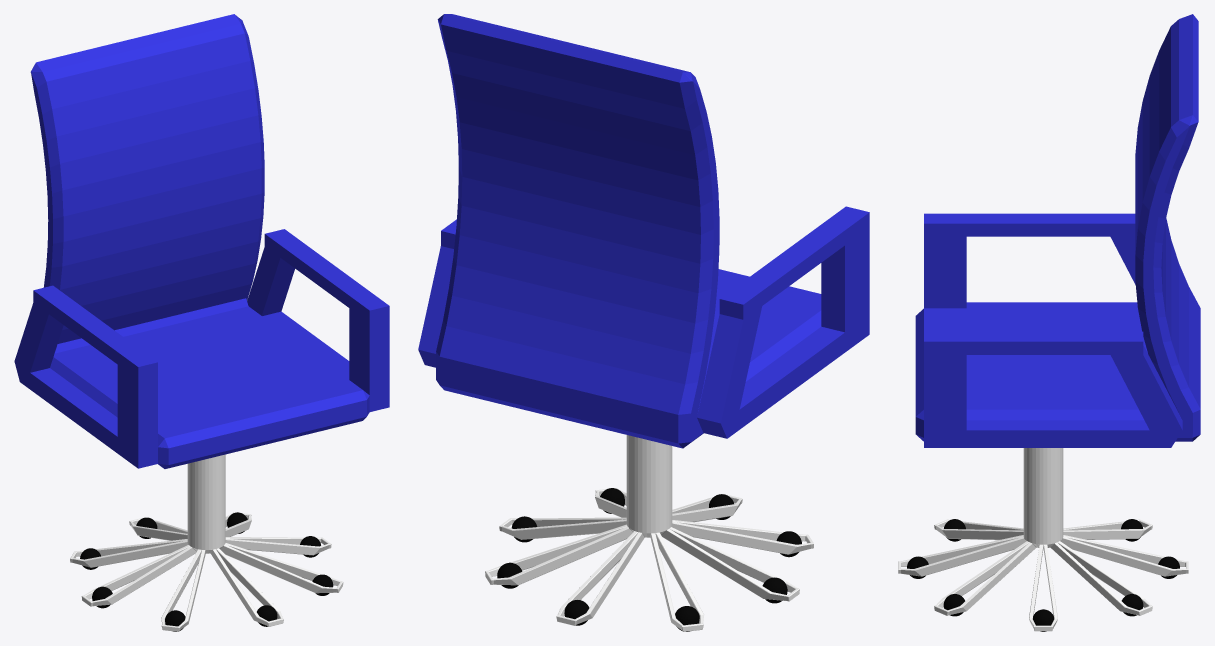
File: ChairWithArmrest.fbx
The picture shows the model from 3 angles, left to right: view 1: azimuth 30°, elevation 25°; view 2: azimuth 150°, elevation 25°; view 3: azimuth 270°, elevation 25°; orthographic projection. The views are drawn at different scales.
Visible parts, largest first — view 1: chair_with_armrest; view 2: chair_with_armrest; view 3: chair_with_armrest.
Boxes of the visible parts, x1=… form: chair_with_armrest: x1=14, y1=14, x2=389, y2=631; chair_with_armrest: x1=418, y1=14, x2=869, y2=631; chair_with_armrest: x1=898, y1=14, x2=1200, y2=631.
Bounding box in the file's own units: 2.37 × 2.37 × 4.44.
